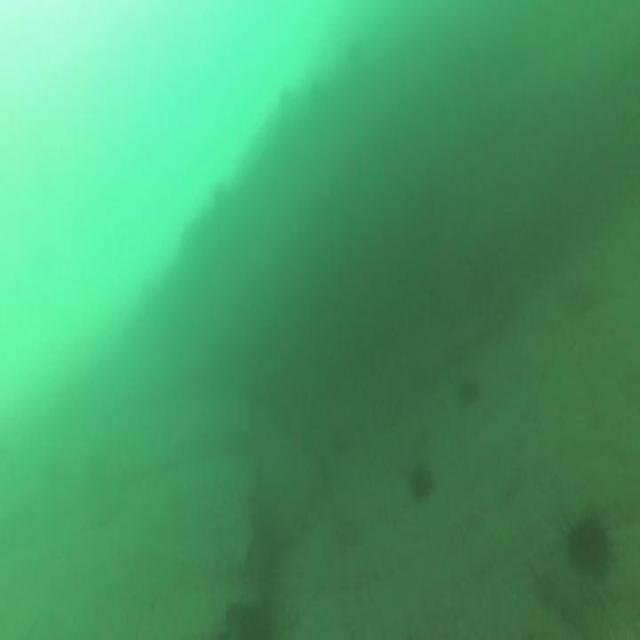echinus: (567, 514, 613, 575), (409, 460, 432, 499), (459, 376, 479, 409)
